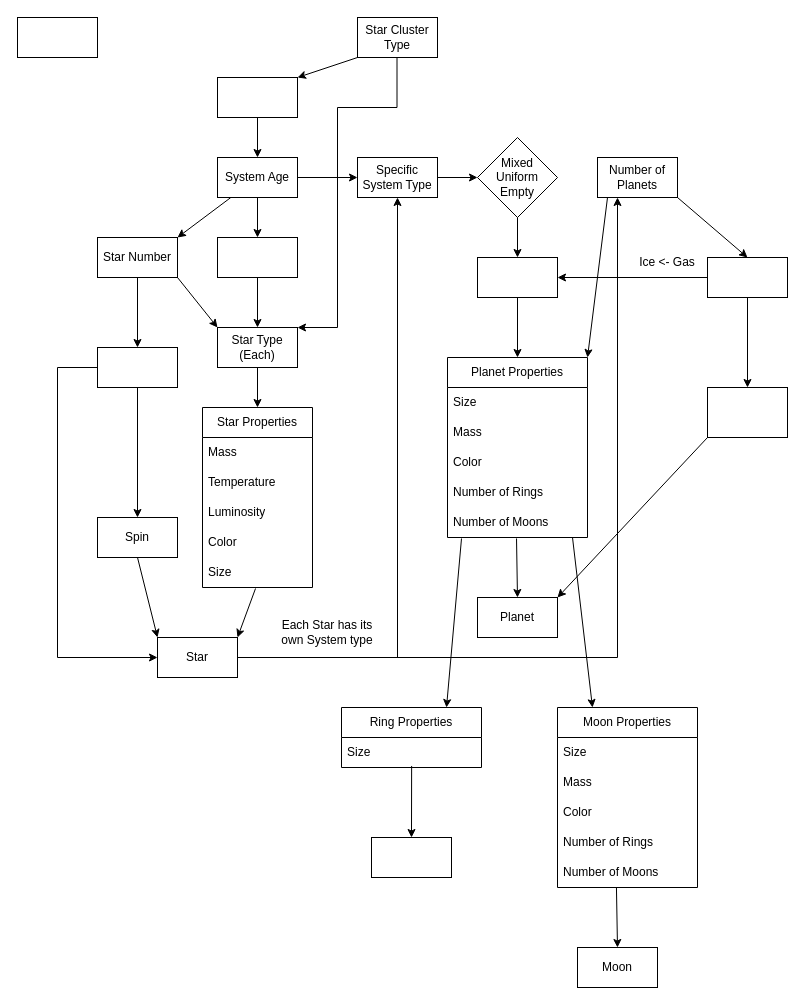
The diagram is 805 pixels wide and 1005 high, and some of its shapes have lost their labels. The centre of each missing label's shape, as x and y in pixels:
Orbit Period, Speed, and Eccentricity: point (747, 412)
Orbit Size: point (747, 277)
Orbit Type: point (137, 367)
Planet Type: point (517, 277)
Ring: point (411, 857)
Star Age Range: point (257, 257)
Star Cluster Age: point (257, 97)
